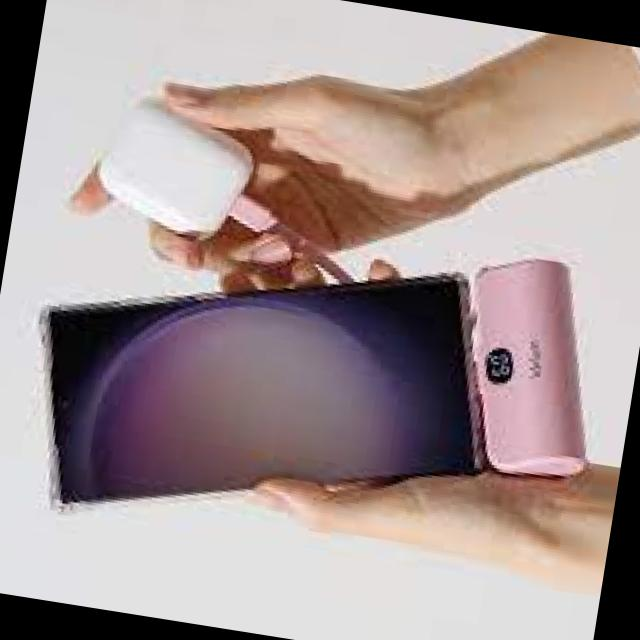power_bank: (443, 243, 620, 487), (90, 94, 262, 245)
